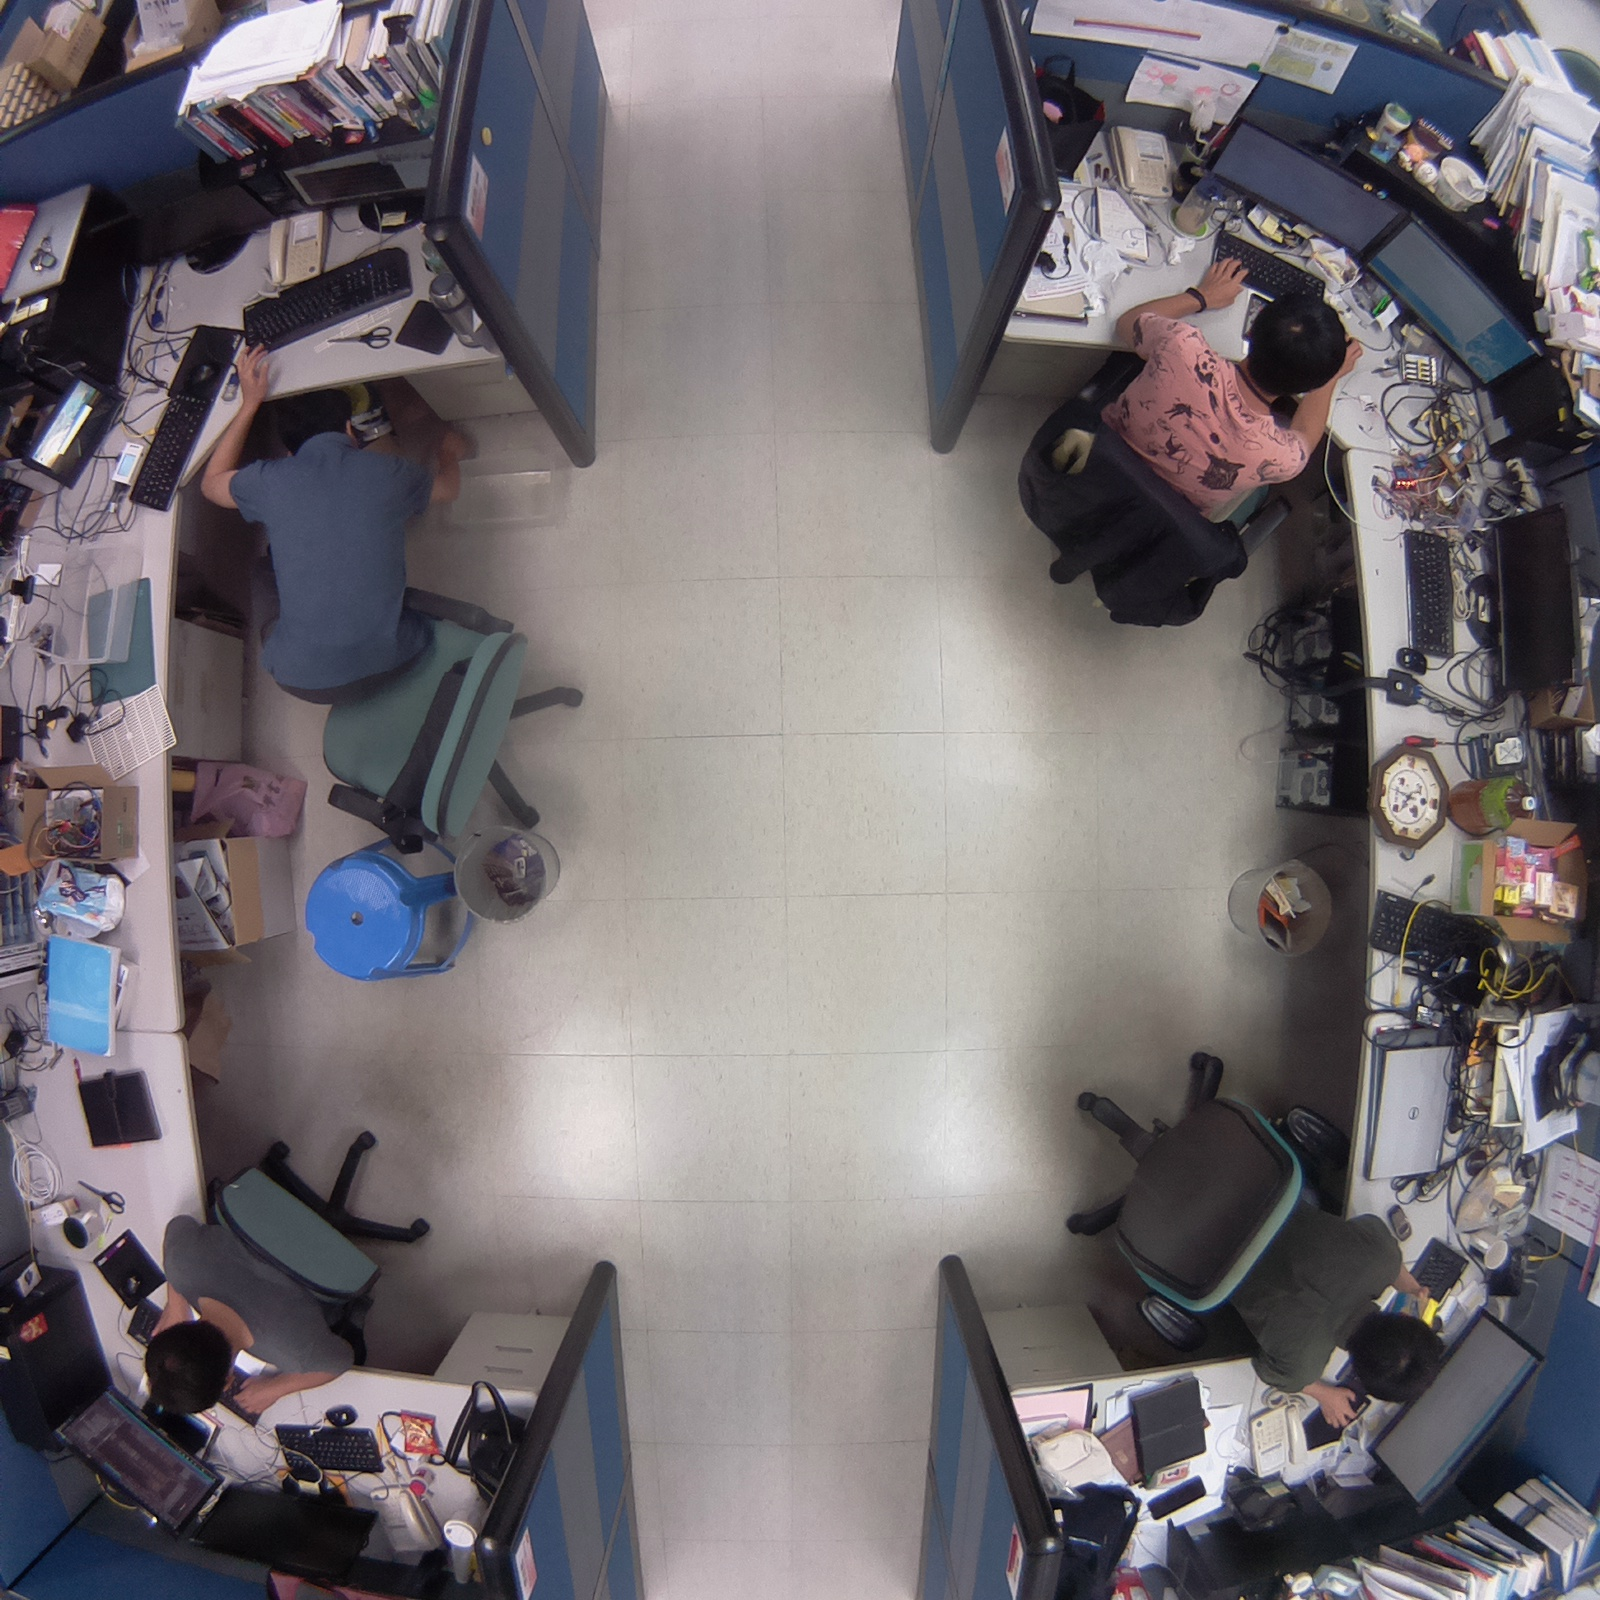head: (137, 1316, 243, 1422), (1239, 294, 1350, 394), (1346, 1308, 1452, 1406), (266, 386, 362, 453)
sitting: (197, 375, 466, 706), (1084, 240, 1369, 552), (1220, 1183, 1455, 1443), (121, 1198, 364, 1418)
